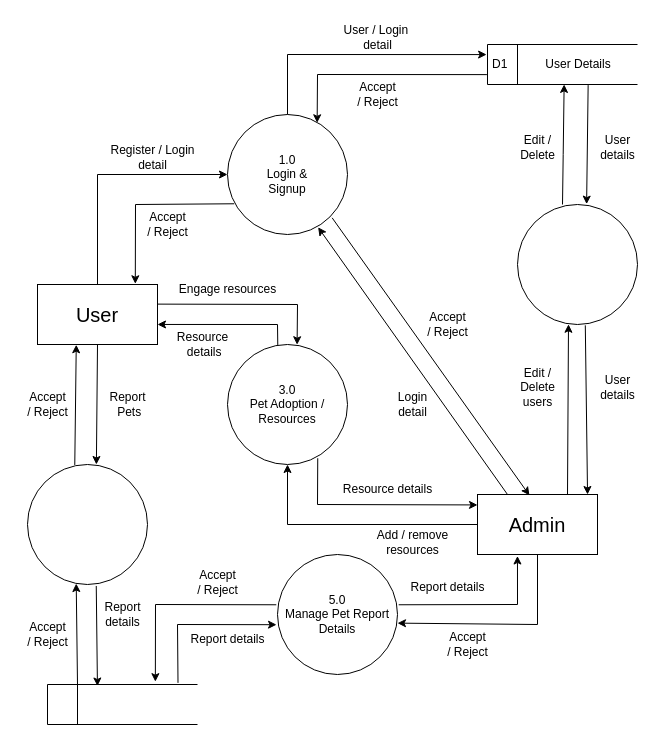
The diagram is 664 pixels wide and 742 high, and some of its shapes have lost their labels. Here are the shapes that lost their labels. From the top down, the centre of each, then its label:
At [577,264]: "4.0 Manage Users".
At [87,524]: "2.0 Pet Reporting".
At [122,704]: "D2 Pet Report Details".
